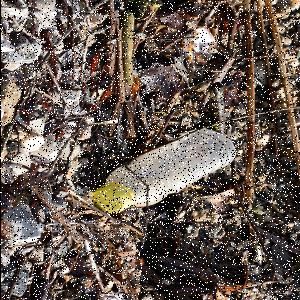Plastic-bottle: (89, 129, 236, 215)
